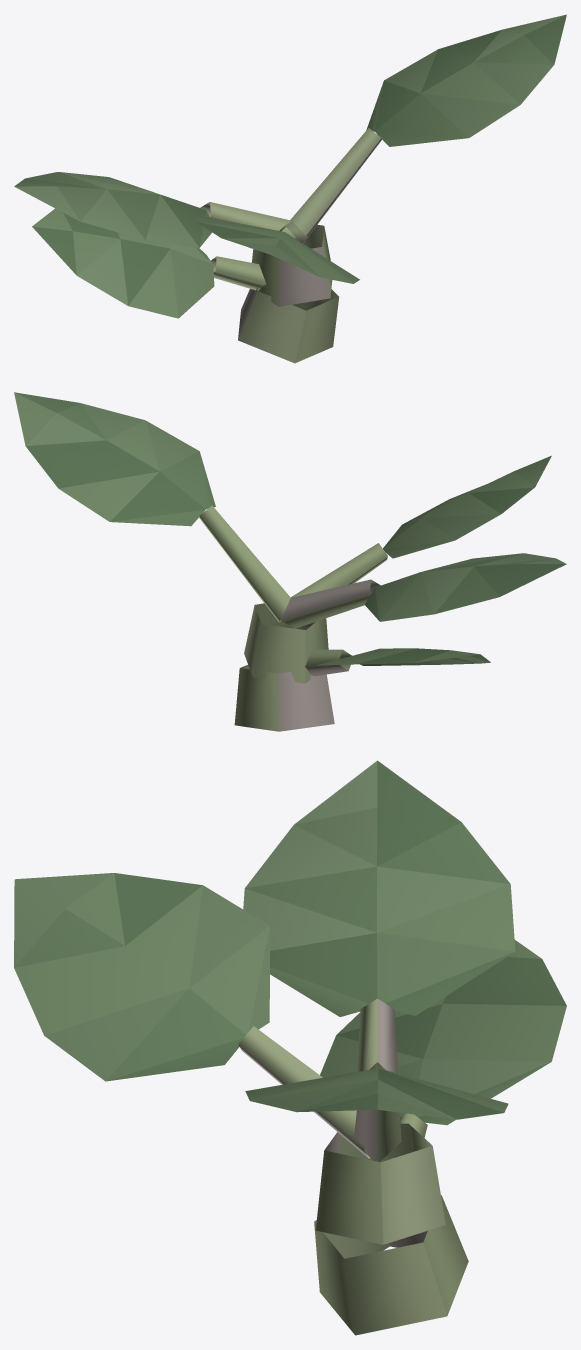
Rendered from aubergine_semis.glb.
3 renders of one model, top to bottom at view 1: azimuth 30°, elevation 25°; view 2: azimuth 150°, elevation 25°; view 3: azimuth 270°, elevation 25°, orthographic. The views are drawn at different scales.
Visible parts, largest first — view 1: Aubergine_Feuilles, Aubergine_Tiges; view 2: Aubergine_Feuilles, Aubergine_Tiges; view 3: Aubergine_Feuilles, Aubergine_Tiges.
Boxes of the visible parts, x1,y1,x2,y2 form: Aubergine_Feuilles: (14, 14, 566, 318); Aubergine_Tiges: (200, 128, 381, 363); Aubergine_Feuilles: (14, 392, 566, 666); Aubergine_Tiges: (199, 505, 387, 731); Aubergine_Feuilles: (14, 760, 566, 1125); Aubergine_Tiges: (238, 998, 468, 1335).
Bounding box in the file's own units: 0.1677 × 0.0777 × 0.0968.
